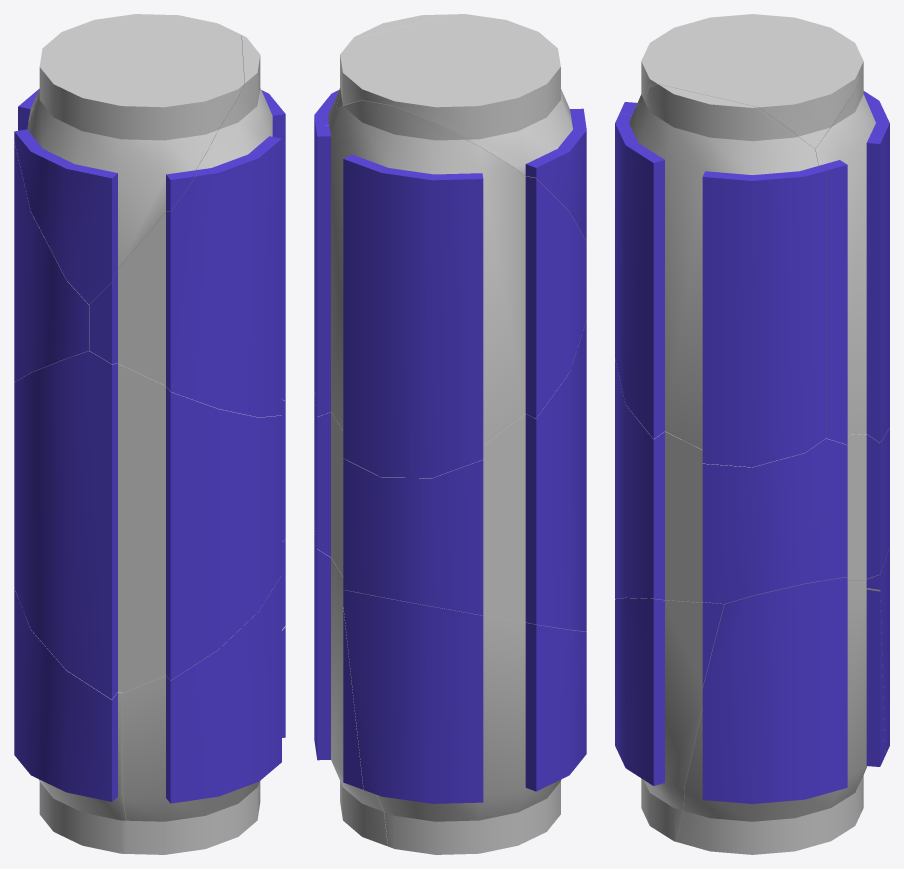
The model's file is Column 6x2x2 Fractured.fbx.
The picture shows the model from 3 angles, left to right: view 1: azimuth 30°, elevation 25°; view 2: azimuth 150°, elevation 25°; view 3: azimuth 270°, elevation 25°; orthographic projection.
Parts seen in each view (by area): view 1: Column_01 6x2x2_cell.004, Column_01 6x2x2_cell.003, Column_01 6x2x2_cell.005, Column_01 6x2x2_cell.002, Column_01 6x2x2_cell.006, Column_01 6x2x2_cell, Column_01 6x2x2_cell.001; view 2: Column_01 6x2x2_cell, Column_01 6x2x2_cell.006, Column_01 6x2x2_cell.004, Column_01 6x2x2_cell.003, Column_01 6x2x2_cell.001, Column_01 6x2x2_cell.005; view 3: Column_01 6x2x2_cell.005, Column_01 6x2x2_cell.001, Column_01 6x2x2_cell.004, Column_01 6x2x2_cell, Column_01 6x2x2_cell.003, Column_01 6x2x2_cell.002, Column_01 6x2x2_cell.006.
Boxes of the visible parts, left/top/right/bottom form: Column_01 6x2x2_cell.004: left=14, top=351, right=285, bottom=699; Column_01 6x2x2_cell.003: left=14, top=14, right=244, bottom=304; Column_01 6x2x2_cell.005: left=89, top=35, right=285, bottom=417; Column_01 6x2x2_cell.002: left=123, top=540, right=285, bottom=854; Column_01 6x2x2_cell.006: left=14, top=588, right=126, bottom=853; Column_01 6x2x2_cell: left=14, top=88, right=89, bottom=382; Column_01 6x2x2_cell.001: left=257, top=626, right=285, bottom=818; Column_01 6x2x2_cell: left=315, top=100, right=586, bottom=477; Column_01 6x2x2_cell.006: left=343, top=590, right=586, bottom=854; Column_01 6x2x2_cell.004: left=314, top=321, right=586, bottom=631; Column_01 6x2x2_cell.003: left=335, top=14, right=586, bottom=240; Column_01 6x2x2_cell.001: left=314, top=525, right=387, bottom=846; Column_01 6x2x2_cell.005: left=314, top=14, right=449, bottom=392; Column_01 6x2x2_cell.005: left=615, top=84, right=825, bottom=467; Column_01 6x2x2_cell.001: left=676, top=577, right=885, bottom=854; Column_01 6x2x2_cell.004: left=615, top=359, right=889, bottom=604; Column_01 6x2x2_cell: left=815, top=66, right=889, bottom=444; Column_01 6x2x2_cell.003: left=620, top=14, right=863, bottom=148; Column_01 6x2x2_cell.002: left=615, top=598, right=724, bottom=841; Column_01 6x2x2_cell.006: left=861, top=547, right=889, bottom=810.
Size of the model in its own units: 200 by 600 by 200.
